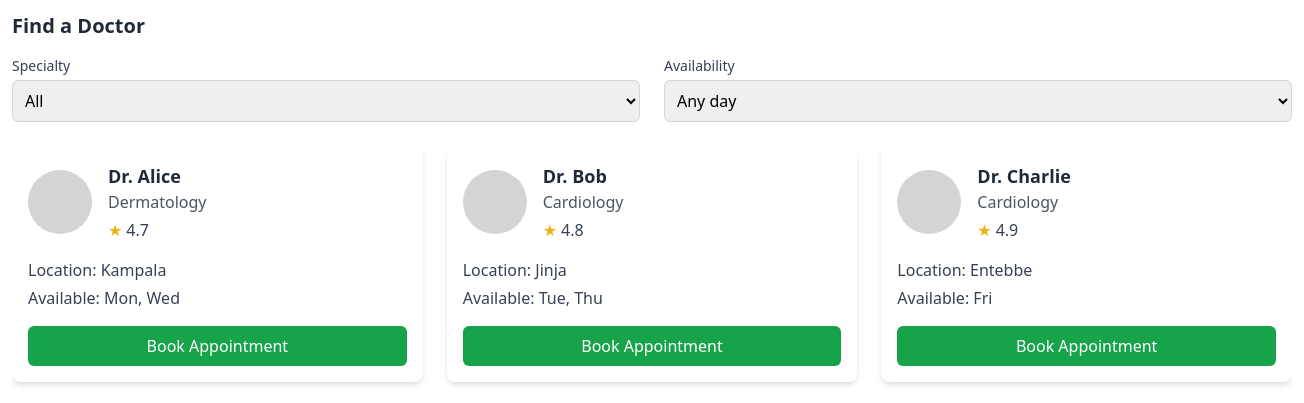
Test: DoctorsDirectory › filters by availability
Select "Wednesday" in the dropdown labelled "Availability" at (978, 101), box top-left (664, 80), bottom-right (1292, 122)
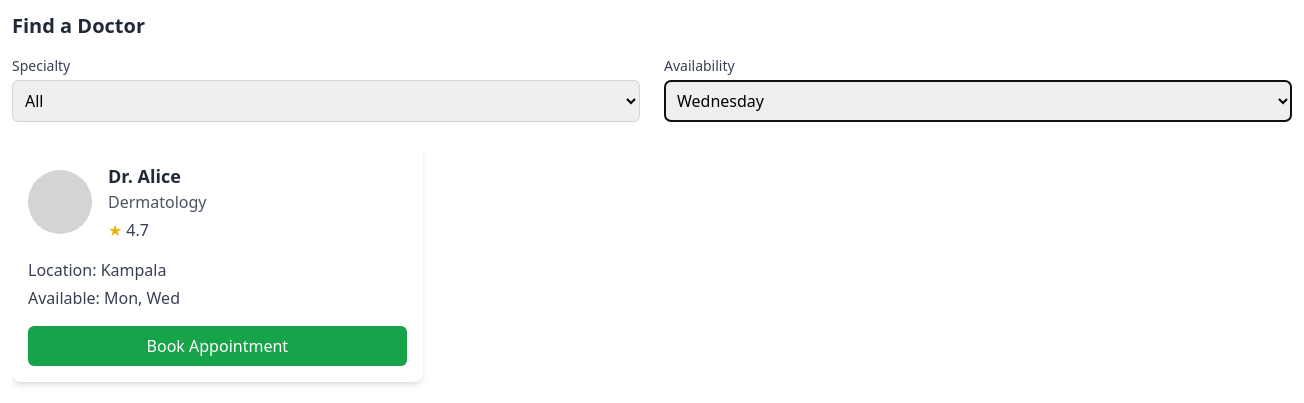
Expected: the heading "Dr. Alice" is shown, top-left (108, 164), bottom-right (181, 188)
Expected: the heading "Dr. Bob" is gone
Expected: the heading "Dr. Charlie" is gone
